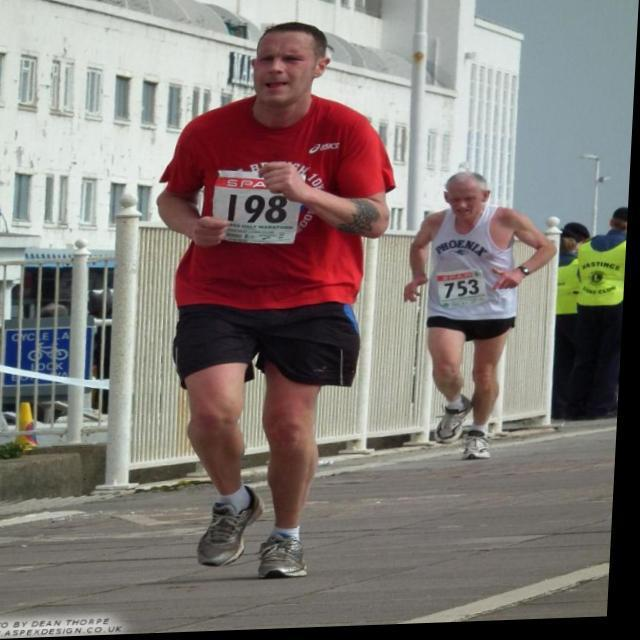dorsal: (201, 158, 316, 252), (432, 268, 498, 311)
